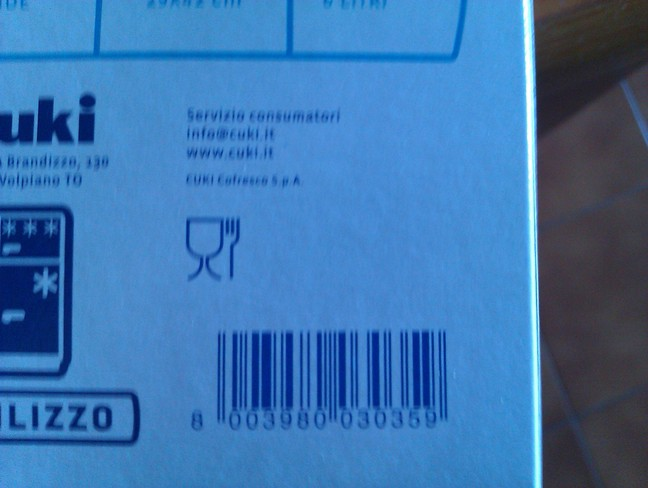detection: (166, 307, 465, 455)
